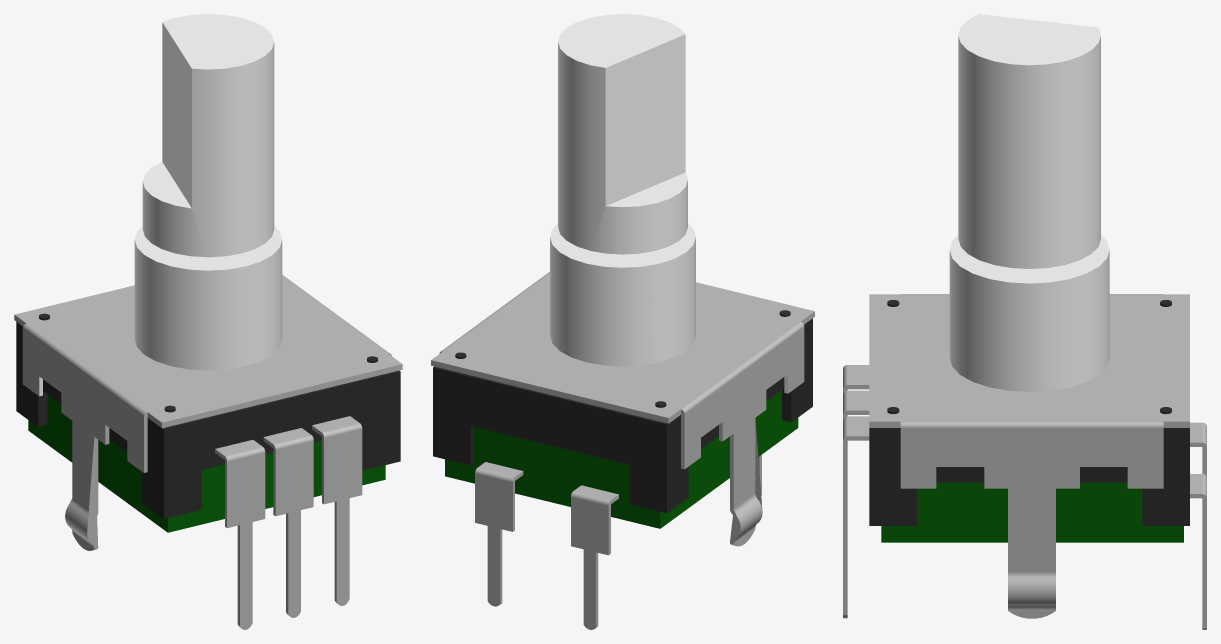
Rendered from Encoder1.fbx.
3 renders of one model, left to right at view 1: azimuth 30°, elevation 25°; view 2: azimuth 150°, elevation 25°; view 3: azimuth 270°, elevation 25°, orthographic. The views are drawn at different scales.
Visible parts, largest first — view 1: Model, Group10, Group8, Group3, Group4, Group2; view 2: Model, Group10, Group8, Group6, Group7; view 3: Model, Group10, Group9, Group8, Group4, Group6, Group2, Group3, Group7.
Boxes of the visible parts, x1,y1,x2,y2 form: Model: (39,14,377,412); Group10: (14,276,402,550); Group8: (16,322,400,532); Group3: (215,440,265,629); Group4: (312,416,362,605); Group2: (263,428,313,617); Model: (455,14,790,407); Group10: (431,273,814,546); Group8: (433,318,812,528); Group6: (475,462,523,606); Group7: (571,485,618,629); Model: (887,14,1171,414); Group10: (869,294,1189,427); Group9: (900,421,1163,618); Group8: (869,428,1189,542); Group4: (843,416,869,618); Group6: (1190,474,1206,629); Group2: (843,390,869,419); Group3: (843,365,869,393); Group7: (1190,422,1206,476).
Bounding box in the file's own units: 13758 × 26215 × 15219.
